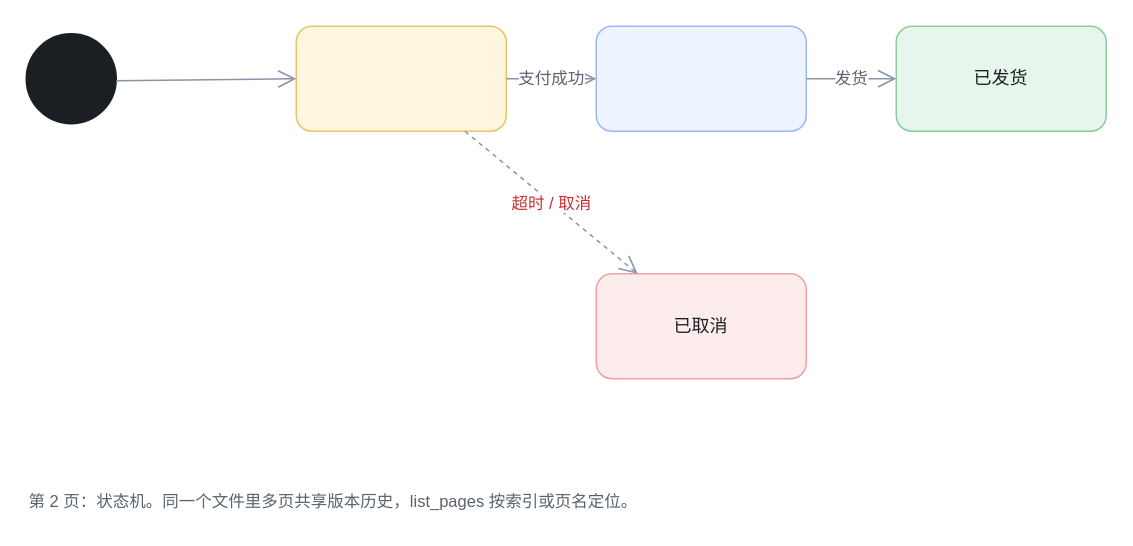
The diagram is 1133 pixels wide and 546 high, and some of its shapes have lost their labels. The shapes that lost their labels are listed below. From the top down, each one's centre as x and y in pixels, then its label:
At (400,78): "待支付".
At (700,78): "已支付".
